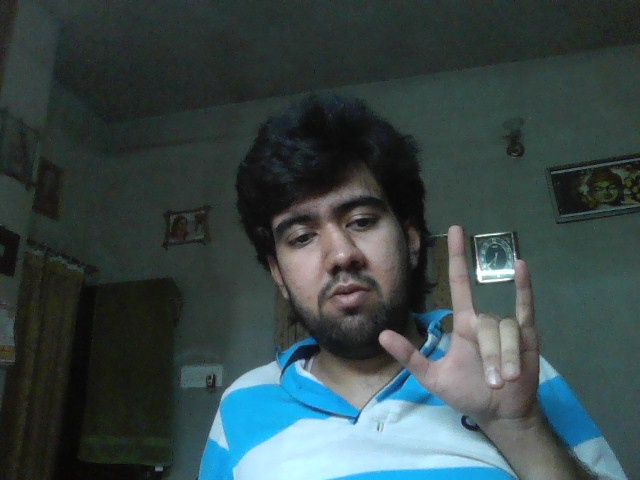ILoveYou: (377, 225, 540, 418)
